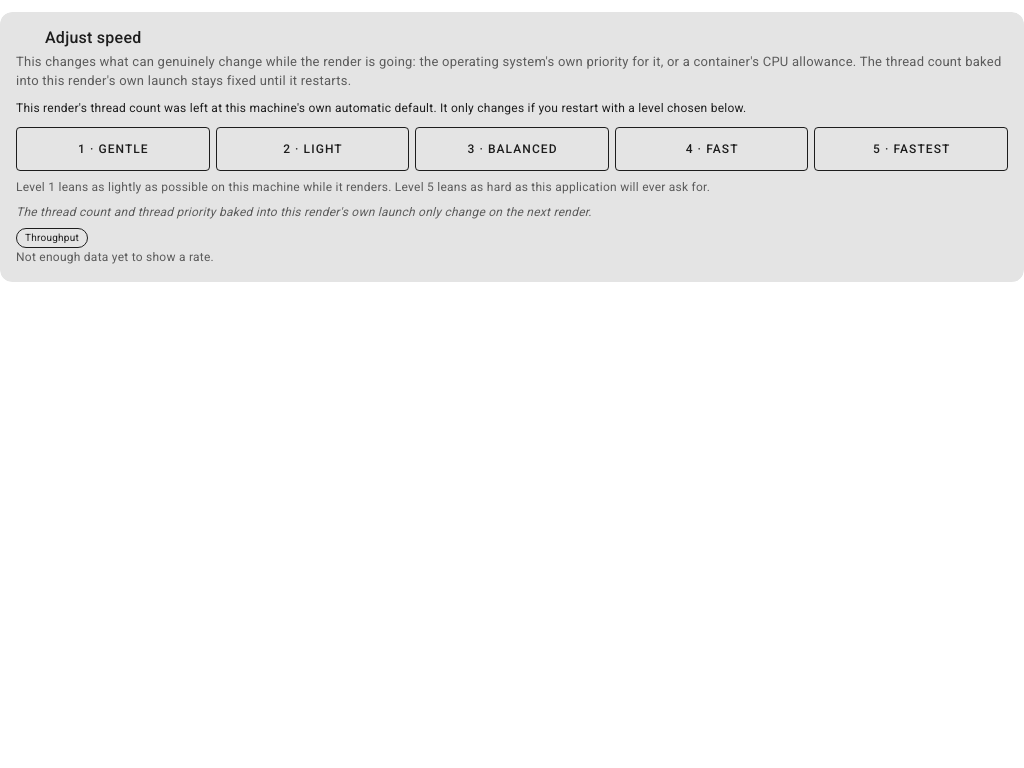
Test: a render on the local route › reports what applied live and what only applies on the next render
The width and height of the screenshot is (1024, 768).
Click the button "5 · Fastest".
click(911, 149)  # box [814,127,1008,171]
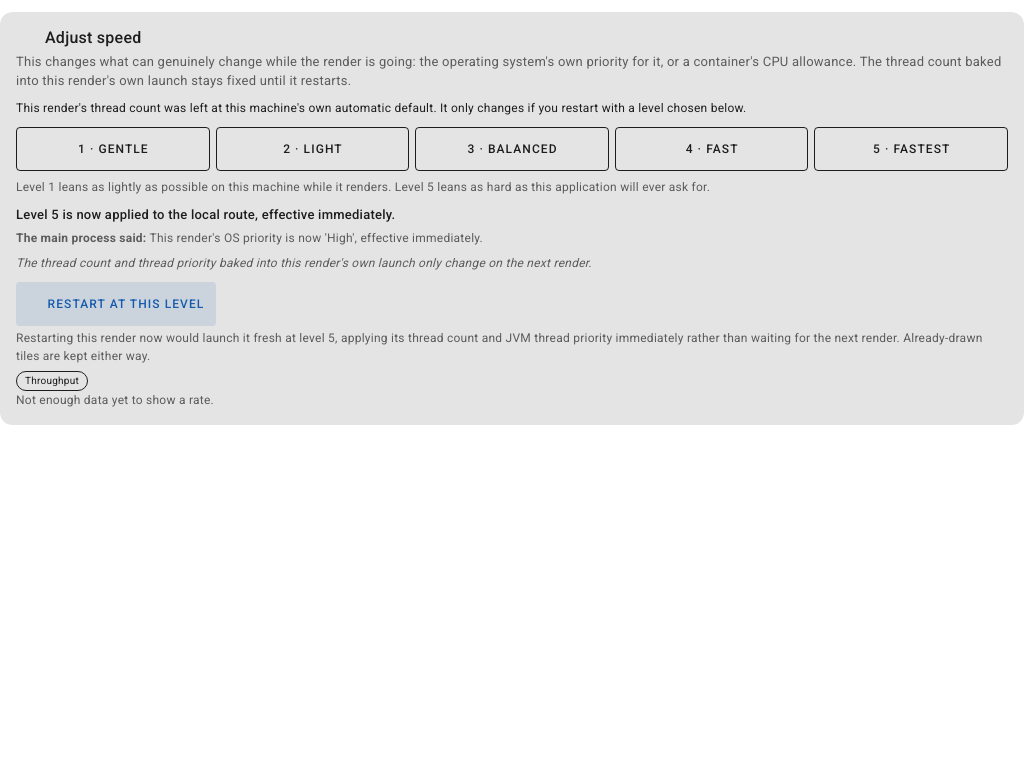
Expected: the text "only change on the next render" is shown, [16,256,592,270]
Now the text "effective immediately" is shown, box [16,207,396,222]
Now the text "This render's OS priority is now 'High'" is shown, box [146,231,483,245]
